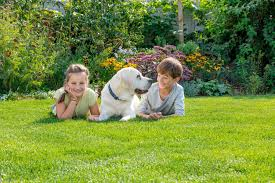child: (49, 60, 103, 121), (141, 56, 189, 121)
